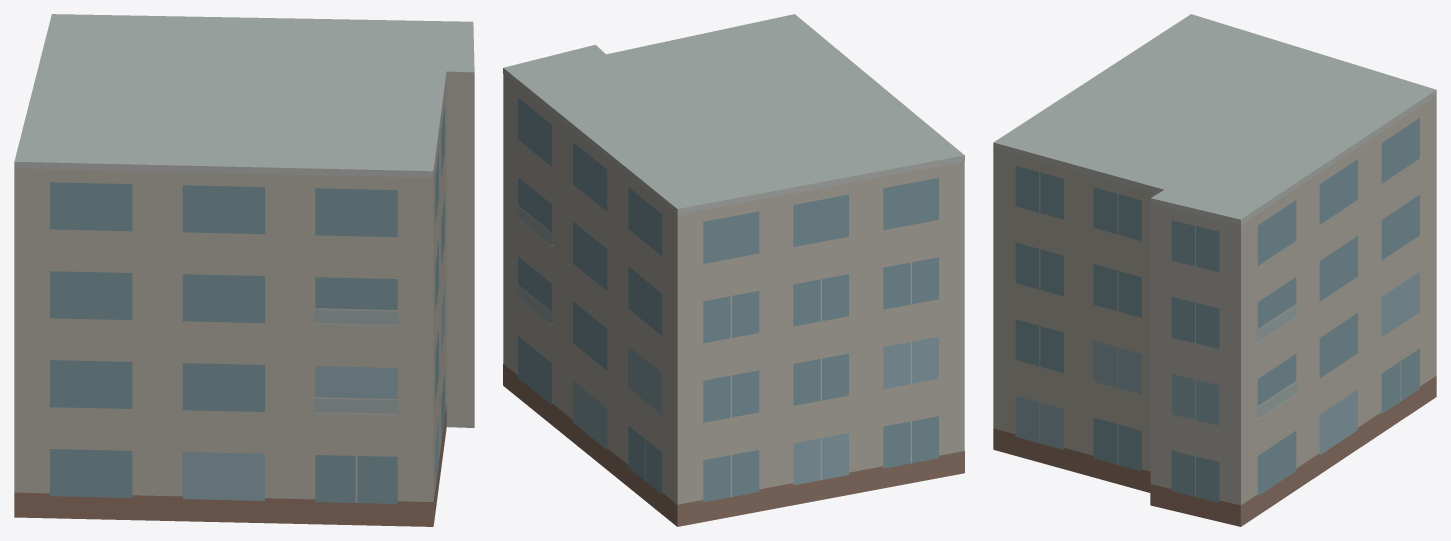
The model's file is survey-upis-32836785.glb.
The picture shows the model from 3 angles, left to right: view 1: azimuth 30°, elevation 25°; view 2: azimuth 150°, elevation 25°; view 3: azimuth 270°, elevation 25°; orthographic projection. The views are drawn at different scales.
Visible parts, largest first — view 1: survey-upis-32836785.tmp; view 2: survey-upis-32836785.tmp; view 3: survey-upis-32836785.tmp.
Part boxes in pixels (<box>): survey-upis-32836785.tmp: <box>14,14,474,526</box>; survey-upis-32836785.tmp: <box>503,14,964,526</box>; survey-upis-32836785.tmp: <box>993,14,1436,526</box>.
Size of the model in its own units: 18.53 by 12.9 by 16.87.
